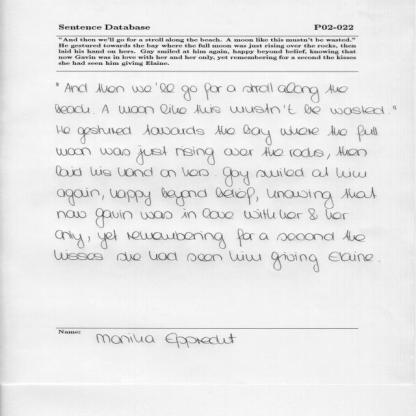Handwritten text: (44, 245, 377, 282), (47, 181, 381, 205), (44, 120, 383, 143), (48, 99, 386, 120), (59, 78, 359, 100), (47, 205, 350, 225), (39, 144, 374, 162), (56, 227, 372, 246), (55, 163, 377, 181)
